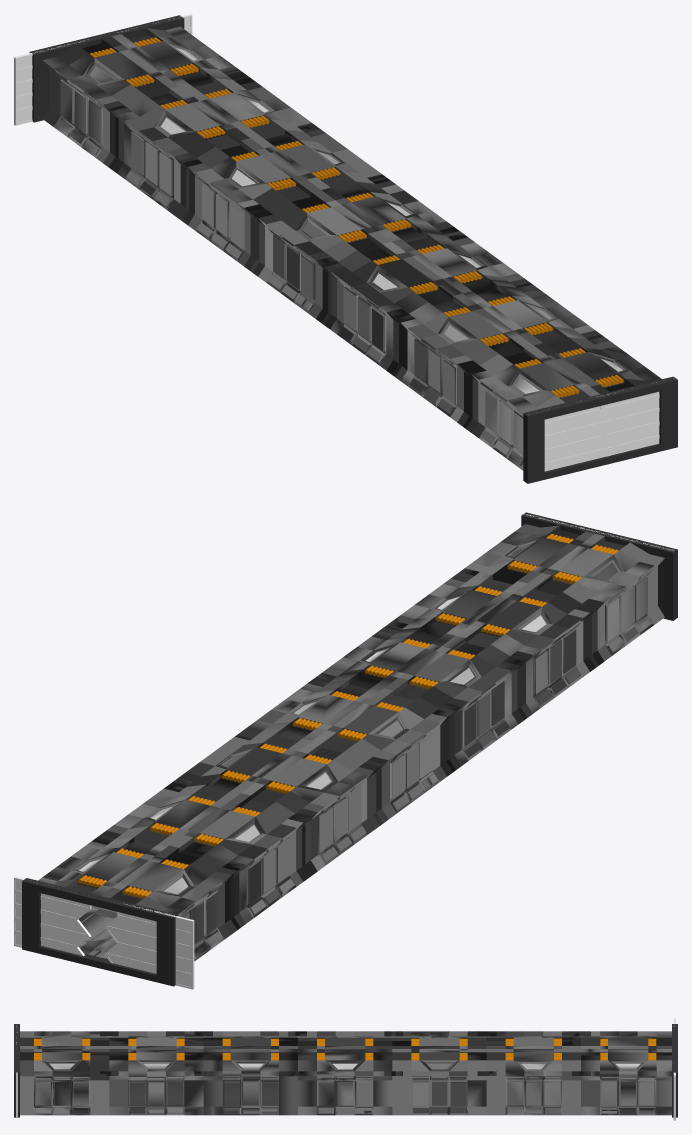
The model's file is corridor.fbx.
The picture shows the model from 3 angles, top to bottom: view 1: azimuth 30°, elevation 25°; view 2: azimuth 150°, elevation 25°; view 3: azimuth 270°, elevation 25°; orthographic projection. The views are drawn at different scales.
Parts seen in each view (by area): view 1: Sci_fi_corridor, frame_2, pipes, door_2_2, door_1_2, frame, door_2; view 2: Sci_fi_corridor, frame, pipes, door_2, door_1, frame_2; view 3: Sci_fi_corridor, pipes, frame, frame_2.
Boxes of the visible parts, x1,y1,x2,y2 form: Sci_fi_corridor: (42, 26, 661, 470); frame_2: (523, 376, 677, 483); pipes: (90, 37, 623, 397); door_2_2: (544, 396, 615, 471); door_1_2: (602, 377, 677, 455); frame: (29, 15, 184, 122); door_2: (14, 39, 88, 125); Sci_fi_corridor: (38, 524, 664, 961); frame: (22, 878, 178, 986); pipes: (78, 534, 618, 898); door_2: (104, 904, 194, 989); door_1: (14, 876, 91, 956); frame_2: (521, 512, 677, 620); Sci_fi_corridor: (20, 1031, 671, 1115); pipes: (34, 1038, 656, 1060); frame: (672, 1024, 677, 1117); frame_2: (14, 1024, 19, 1117).
Size of the model in its own units: 4849 by 1766 by 23663.
